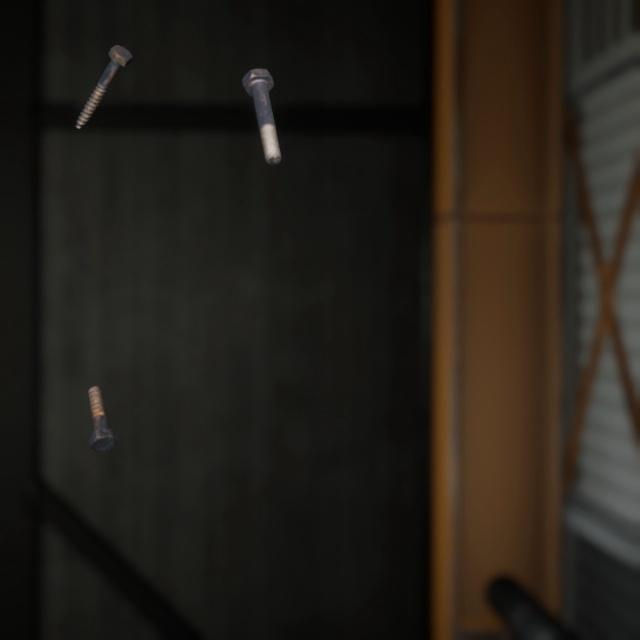bolt: (71, 29, 137, 122), (237, 51, 286, 157), (83, 362, 123, 437)
